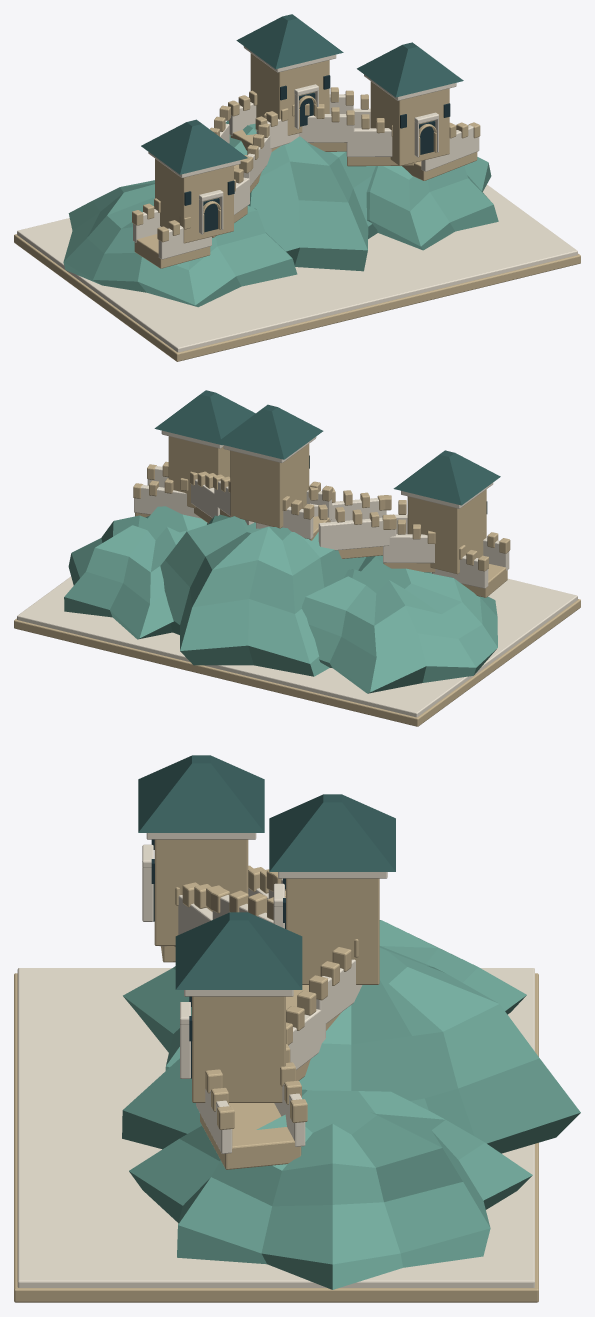
File: great_wall.glb
The picture shows the model from 3 angles, top to bottom: view 1: azimuth 30°, elevation 25°; view 2: azimuth 150°, elevation 25°; view 3: azimuth 270°, elevation 25°; orthographic projection. The views are drawn at different scales.
Visible parts, largest first — view 1: great_wall_jade, great_wall_ivory, great_wall_stone, great_wall_roof, great_wall_ink; view 2: great_wall_jade, great_wall_stone, great_wall_ivory, great_wall_roof; view 3: great_wall_jade, great_wall_ivory, great_wall_stone, great_wall_roof.
Boxes of the visible parts, bbox=[...] form: great_wall_jade: bbox=[63, 120, 498, 307]; great_wall_ivory: bbox=[17, 46, 577, 352]; great_wall_stone: bbox=[14, 53, 580, 361]; great_wall_roof: bbox=[141, 14, 463, 174]; great_wall_ink: bbox=[184, 75, 450, 232]; great_wall_jade: bbox=[64, 506, 497, 693]; great_wall_stone: bbox=[14, 436, 580, 726]; great_wall_ivory: bbox=[17, 430, 577, 717]; great_wall_roof: bbox=[154, 390, 500, 505]; great_wall_jade: bbox=[122, 920, 580, 1289]; great_wall_ivory: bbox=[17, 833, 534, 1287]; great_wall_stone: bbox=[14, 839, 538, 1302]; great_wall_roof: bbox=[138, 755, 395, 989].
Bounding box in the file's own units: 8.27 × 4.17 × 6.05.
